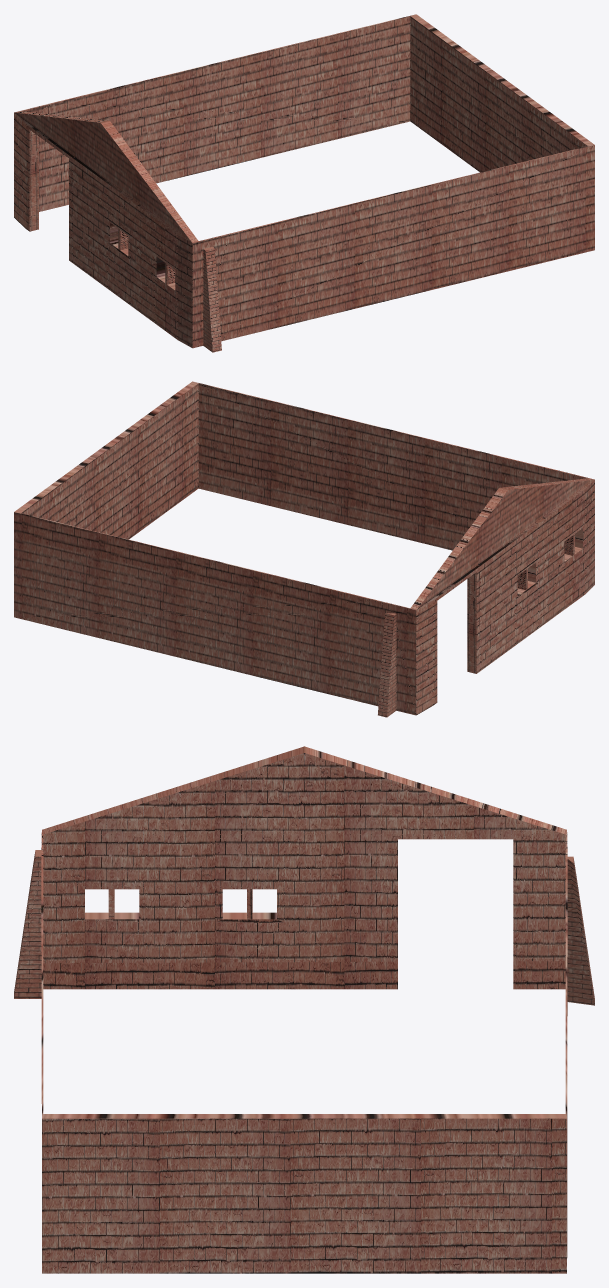
File: ruine.glb
The picture shows the model from 3 angles, top to bottom: view 1: azimuth 30°, elevation 25°; view 2: azimuth 150°, elevation 25°; view 3: azimuth 270°, elevation 25°; orthographic projection. The views are drawn at different scales.
Visible parts, largest first — view 1: ruine; view 2: ruine; view 3: ruine.
Part boxes in pixels (x1,y1,x2,y2): ruine: (14,14,594,352); ruine: (14,381,594,717); ruine: (14,746,594,1273).
Bounding box in the file's own units: 13.19 × 5 × 11.13.
Materials: 1 (1 with a texture image).
